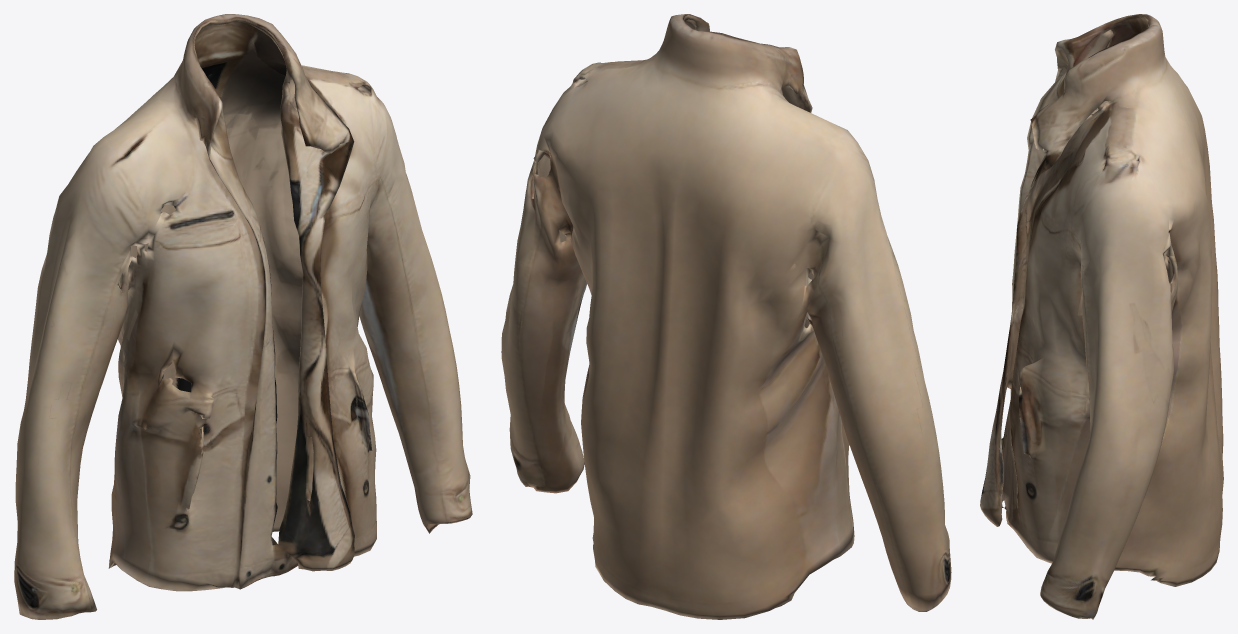
3 views of the same model, side by side, from view 1: azimuth 30°, elevation 25°; view 2: azimuth 150°, elevation 25°; view 3: azimuth 270°, elevation 25° (orthographic). The views are drawn at different scales.
Bounding box in the file's own units: 1.66 × 1.99 × 0.831.
1 material, 1 textured.
